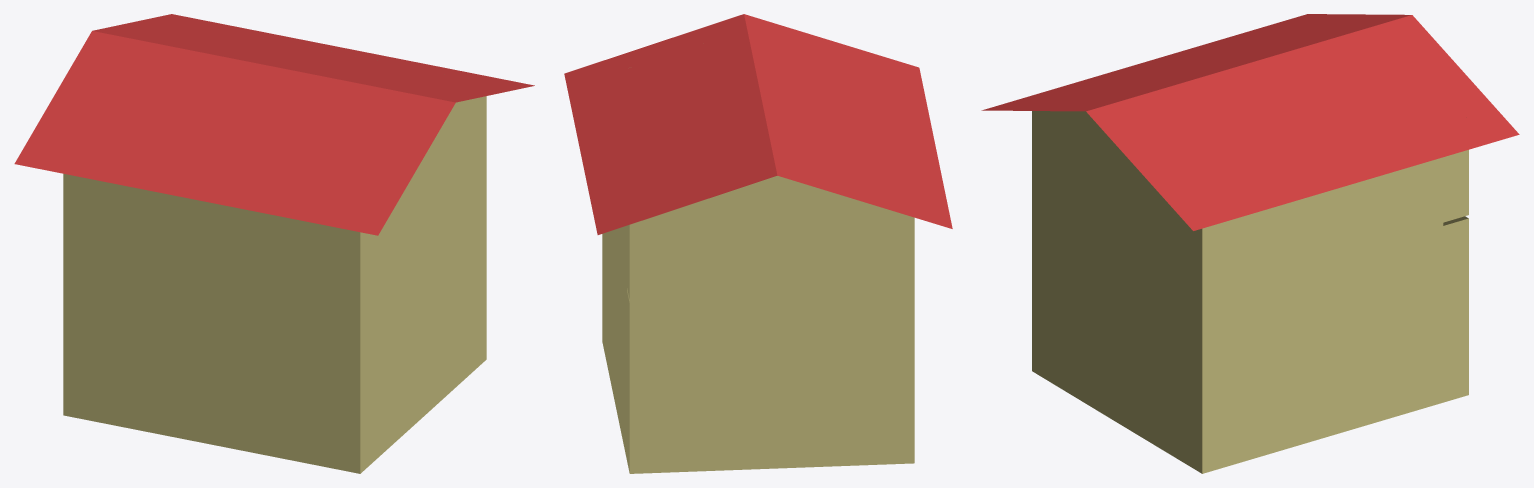
3 views of the same model, side by side, from view 1: azimuth 30°, elevation 25°; view 2: azimuth 150°, elevation 25°; view 3: azimuth 270°, elevation 25° (orthographic). The views are drawn at different scales.
Size of the model in its own units: 14.54 by 14.73 by 9.63.
